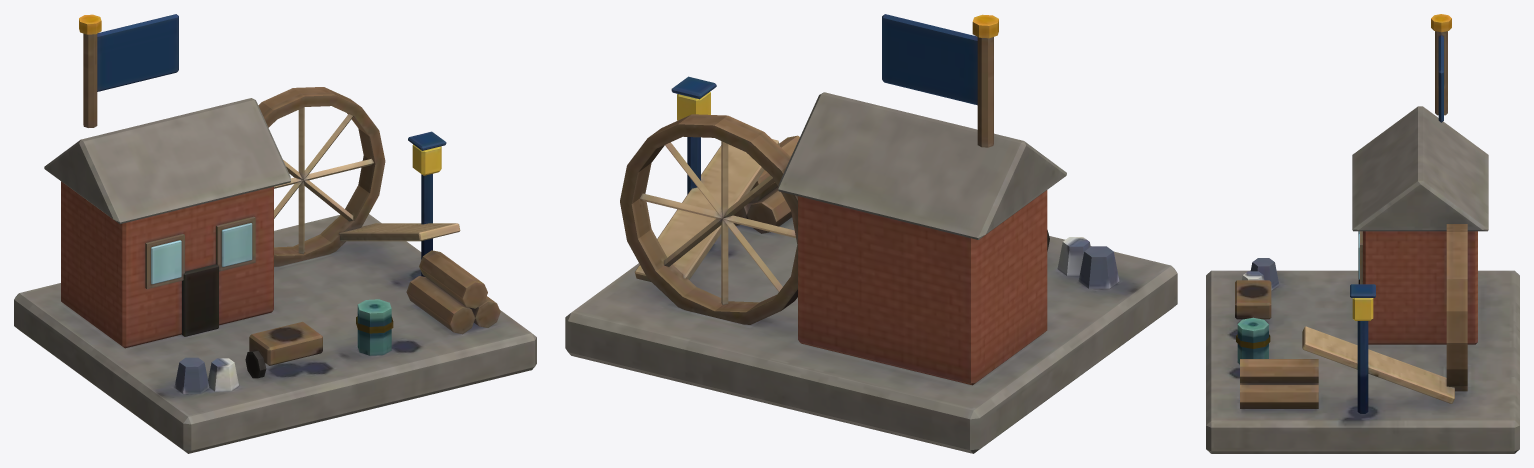
Rendered from lumberyard-10.glb.
3 renders of one model, left to right at view 1: azimuth 30°, elevation 25°; view 2: azimuth 150°, elevation 25°; view 3: azimuth 270°, elevation 25°, orthographic. The views are drawn at different scales.
Visible parts, largest first — view 1: lumberyard-10; view 2: lumberyard-10; view 3: lumberyard-10.
Part boxes in pixels (box(x1,y1,x2,y2)): lumberyard-10: box(14, 14, 536, 453); lumberyard-10: box(565, 14, 1177, 453); lumberyard-10: box(1206, 14, 1519, 453).
Size of the model in its own units: 1.4 by 1.26 by 1.2.
Materials: 1 (1 with a texture image).
